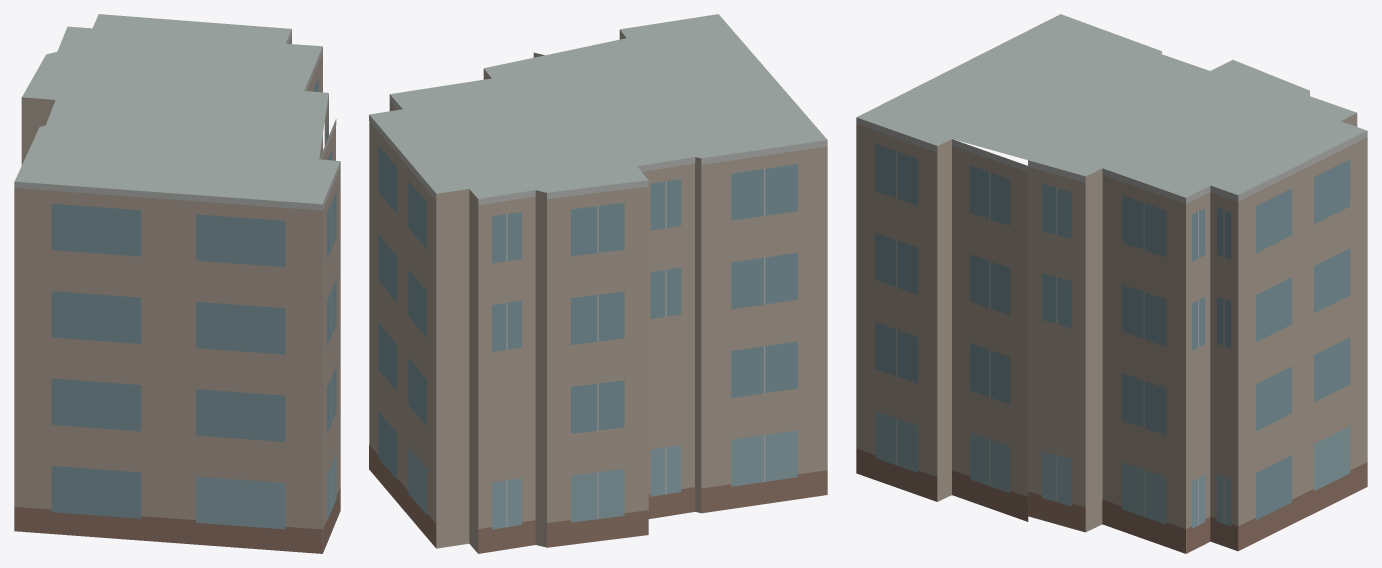
File: survey-upis-32965809.glb
The picture shows the model from 3 angles, left to right: view 1: azimuth 30°, elevation 25°; view 2: azimuth 150°, elevation 25°; view 3: azimuth 270°, elevation 25°; orthographic projection.
Parts seen in each view (by area): view 1: survey-upis-32965809.tmp; view 2: survey-upis-32965809.tmp; view 3: survey-upis-32965809.tmp.
Boxes of the visible parts, x1,y1,x2,y2 form: survey-upis-32965809.tmp: [14, 14, 340, 553]; survey-upis-32965809.tmp: [369, 14, 827, 553]; survey-upis-32965809.tmp: [856, 14, 1367, 553].
Bounding box in the file's own units: 14.96 × 13.5 × 17.58.
